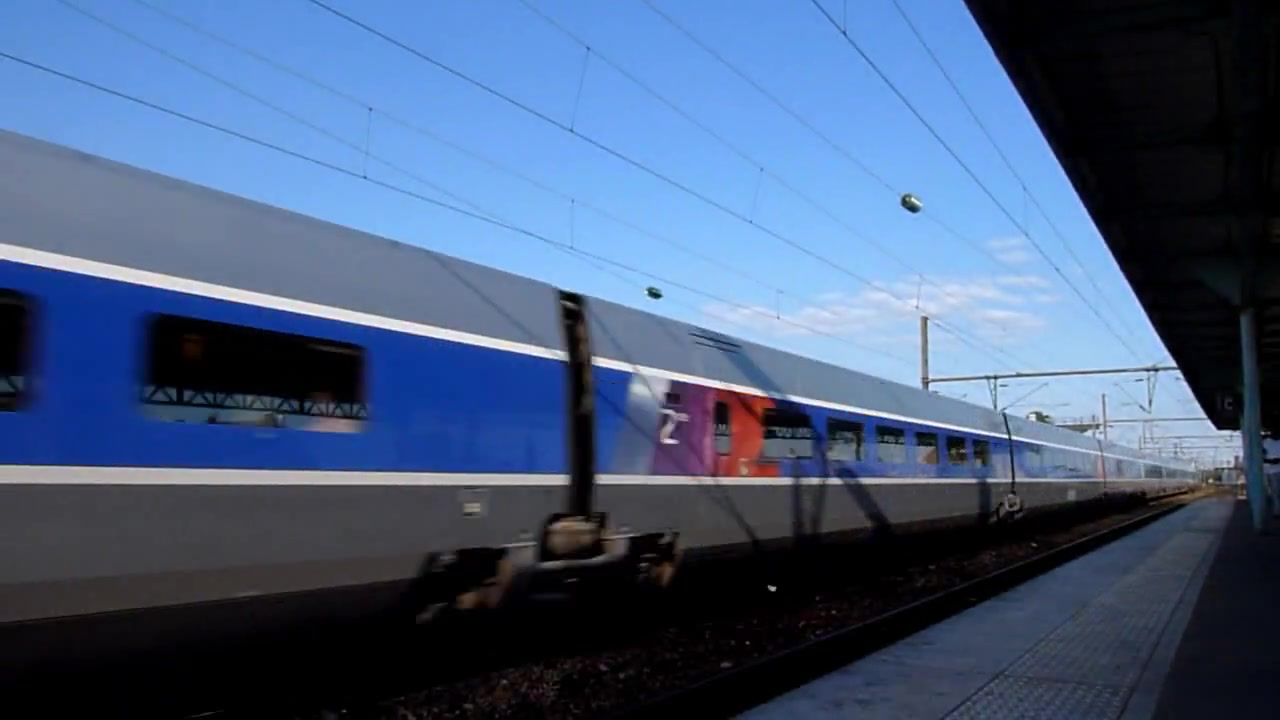train: (4, 113, 1206, 647)
